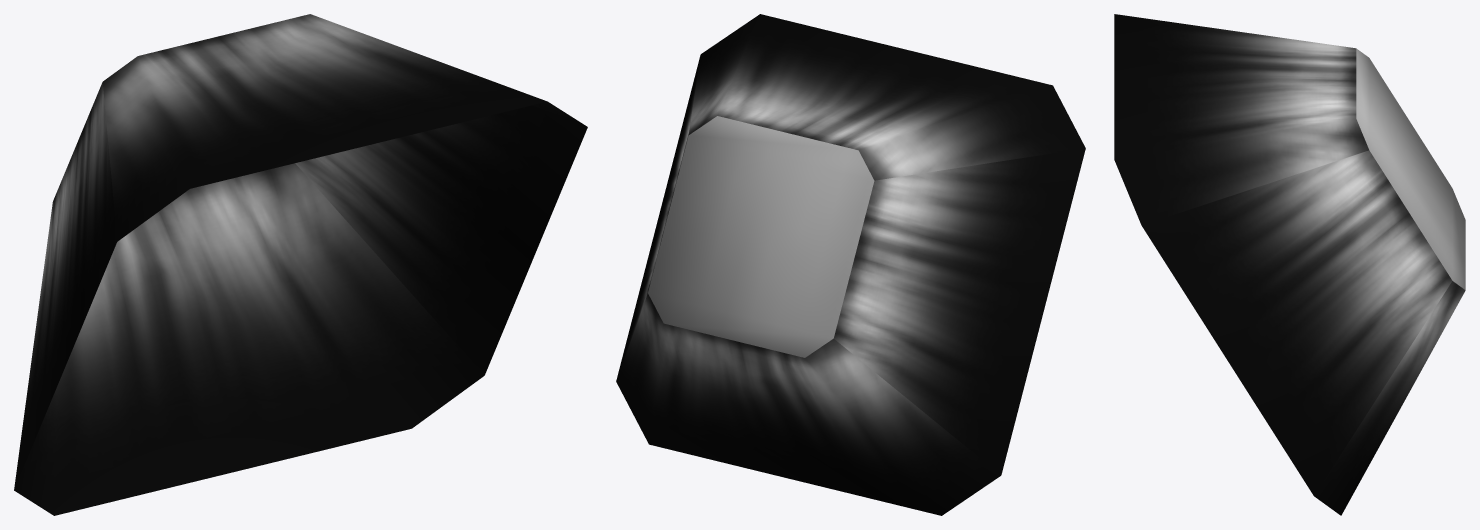
The model's file is Light_Spotlight_Lightcone.FBX.
The picture shows the model from 3 angles, left to right: view 1: azimuth 30°, elevation 25°; view 2: azimuth 150°, elevation 25°; view 3: azimuth 270°, elevation 25°; orthographic projection. The views are drawn at different scales.
Parts seen in each view (by area): view 1: Light_Spotlight_Lightcone; view 2: Light_Spotlight_Lightcone; view 3: Light_Spotlight_Lightcone.
Part boxes in pixels (x1,y1,x2,y2): Light_Spotlight_Lightcone: (14,14,587,515); Light_Spotlight_Lightcone: (616,14,1085,515); Light_Spotlight_Lightcone: (1114,14,1465,515).
Bounding box in the file's own units: 53.27 × 46.57 × 41.24.
